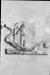P98: (4, 0, 46, 74)
